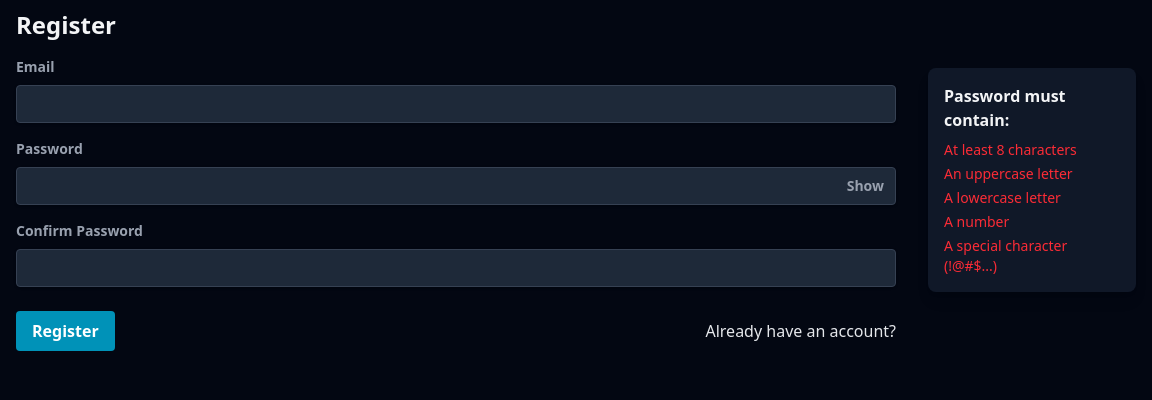
Scenario: RegistrationForm › displays error message on failed registration
The image size is (1152, 400).
Type "test@example.com" into the field labelled "Email".
click(456, 104); type("test@example.com")  # box [16, 85, 896, 123]
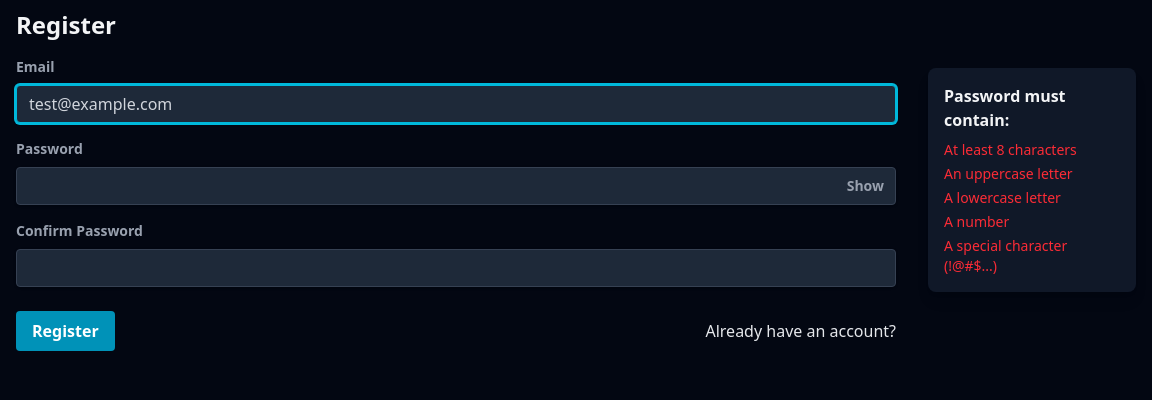
Type "Valid123!" into the password field labelled "Password".
click(456, 186); type("Valid123!")  # box [16, 167, 896, 205]
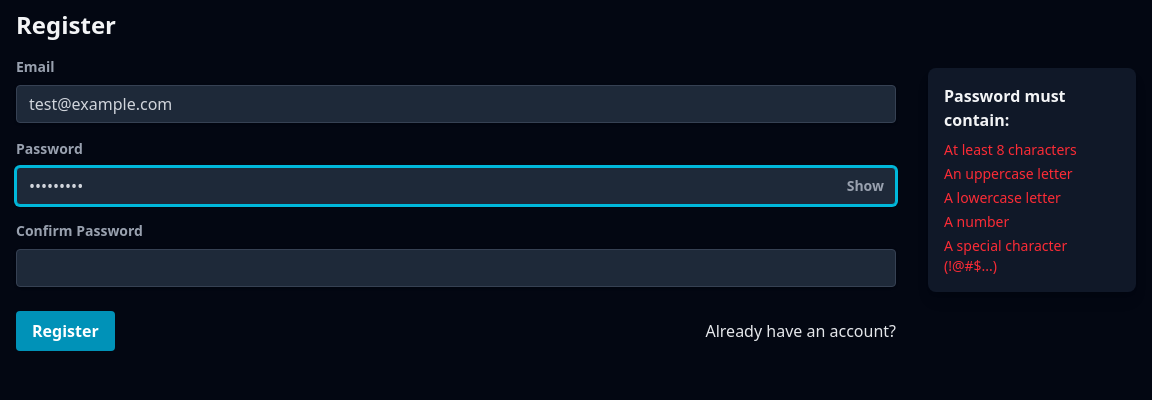
Type "Valid123!" into the password field labelled "Confirm Password".
click(456, 268); type("Valid123!")  # box [16, 249, 896, 287]
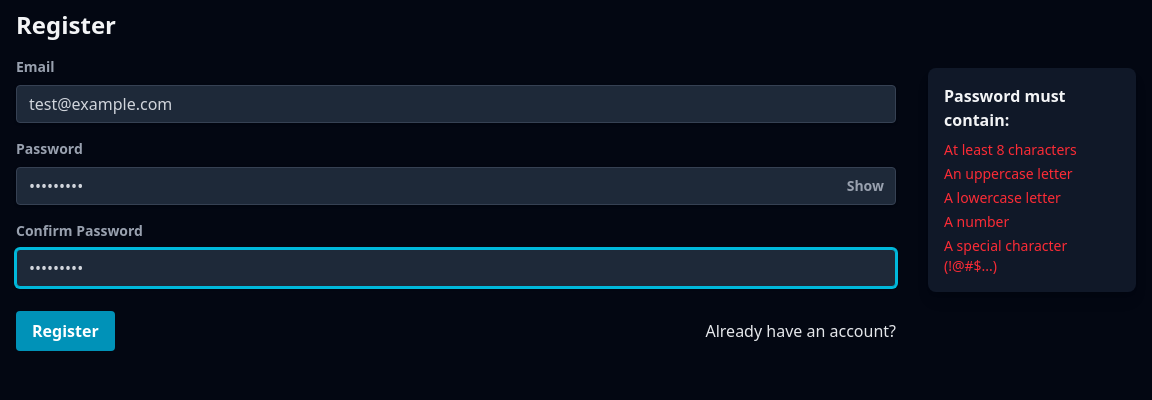
Click the button "Register".
click(65, 331)  # box [16, 311, 115, 351]
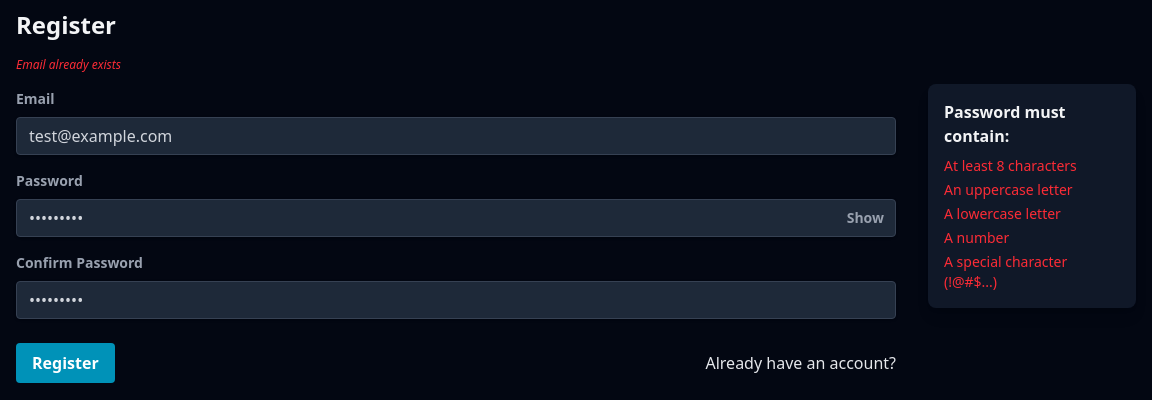
Expected: the text "Email already exists" is shown, [16, 56, 121, 73]
